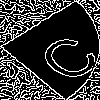C: (25, 25, 100, 85)
